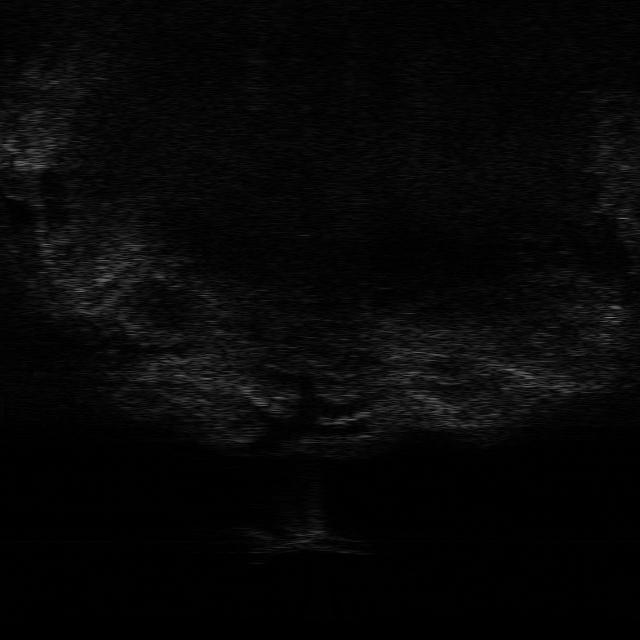plane: (236, 522, 370, 555)
